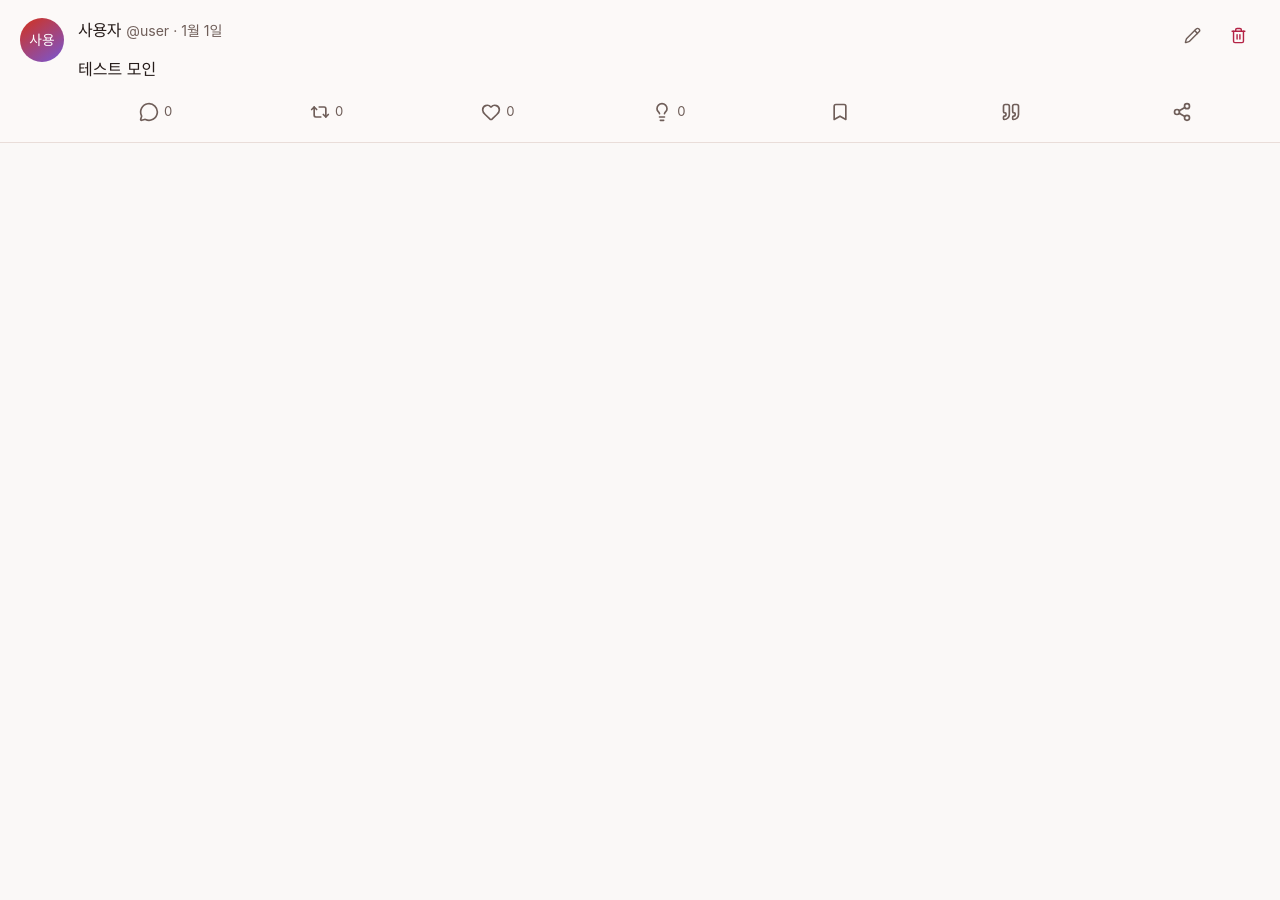
Test: MoinCard optimistic mutation › 삭제 요청이 실패하면 모인을 유지하고 오류를 안내한다
The width and height of the screenshot is (1280, 900).
Click the button named "모인 삭제": coordinates (1238, 35) [1216, 18, 1260, 52]
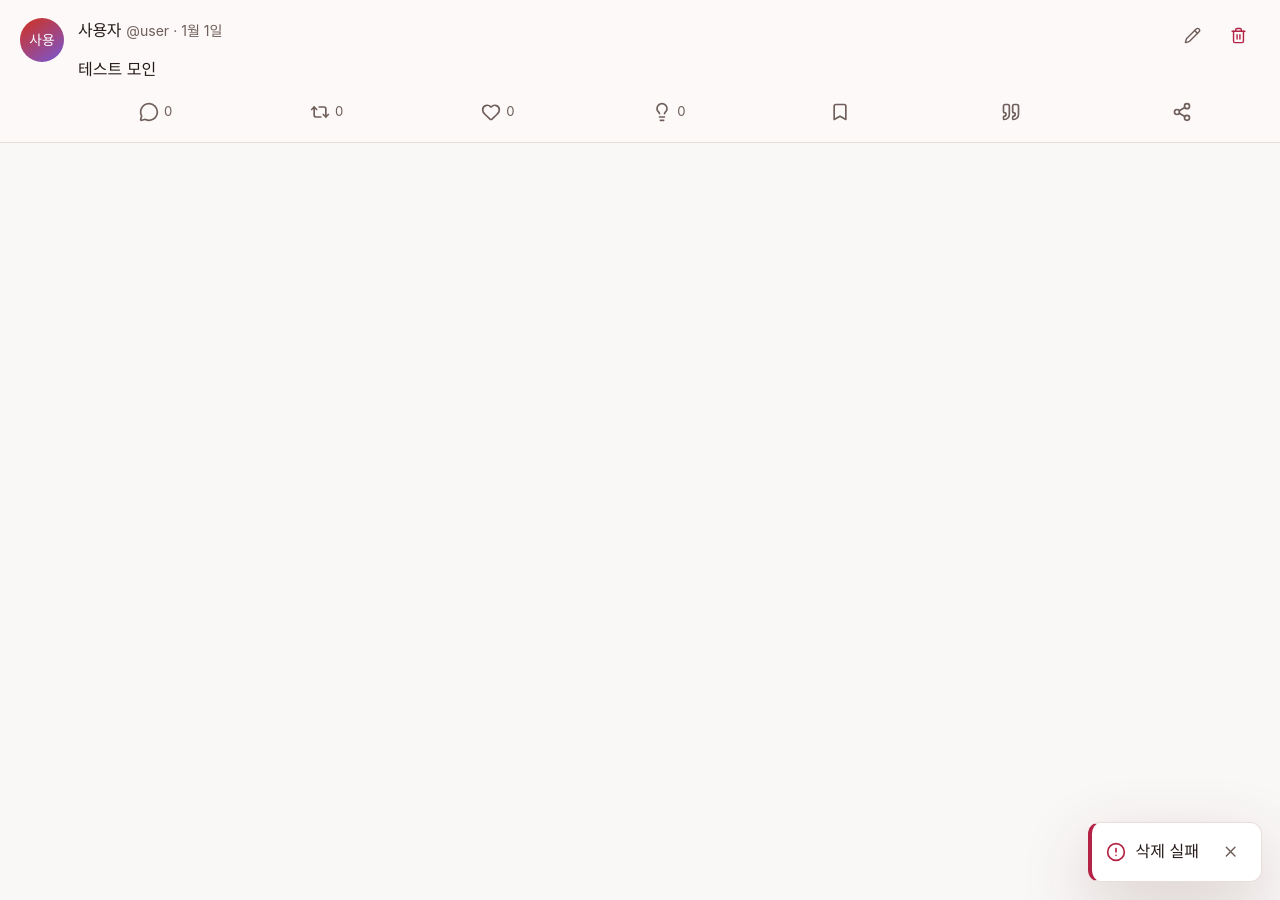
Expected: the link "테스트 모인" is shown, [78, 59, 156, 79]
Expected: the text "삭제 실패" is shown, [1136, 839, 1199, 865]
